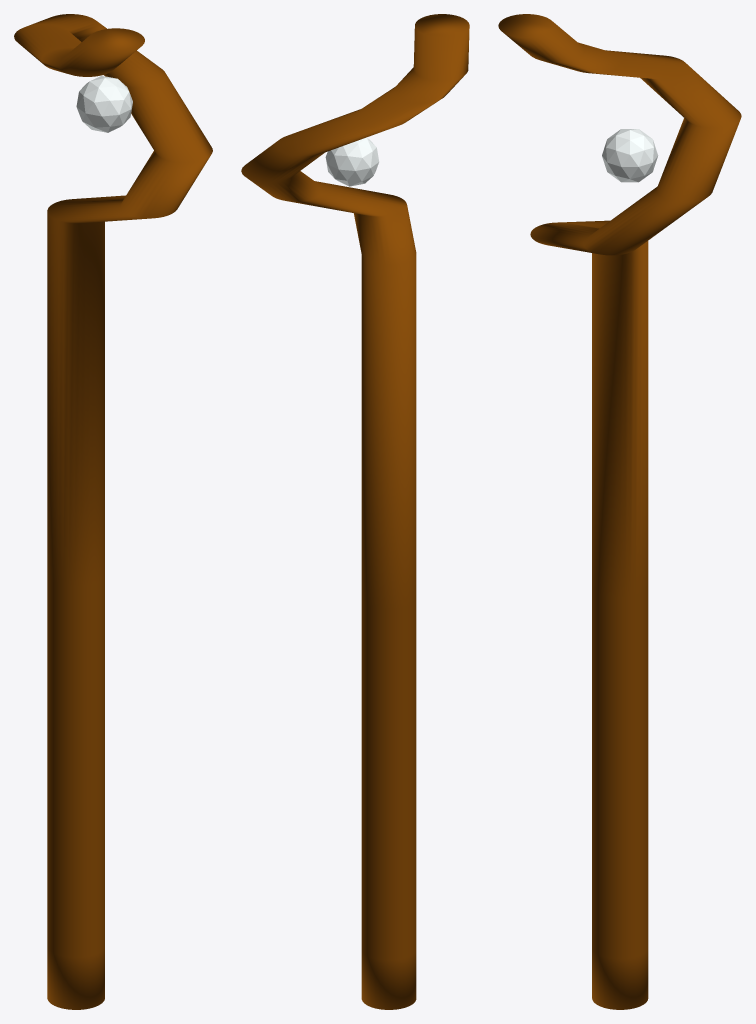
Rendered from STAFF2.fbx.
3 renders of one model, left to right at view 1: azimuth 30°, elevation 25°; view 2: azimuth 150°, elevation 25°; view 3: azimuth 270°, elevation 25°, orthographic. The views are drawn at different scales.
Parts seen in each view (by area): view 1: Cylinder, Icosphere; view 2: Cylinder, Icosphere; view 3: Cylinder, Icosphere.
Part boxes in pixels (x1=…): Cylinder: x1=14, y1=14, x2=212, y2=1009; Icosphere: x1=76, y1=75, x2=132, y2=132; Cylinder: x1=241, y1=14, x2=469, y2=1009; Icosphere: x1=325, y1=137, x2=379, y2=186; Cylinder: x1=498, y1=14, x2=741, y2=1009; Icosphere: x1=602, y1=129, x2=658, y2=182.
Size of the model in its own units: 699 by 3790 by 863.
